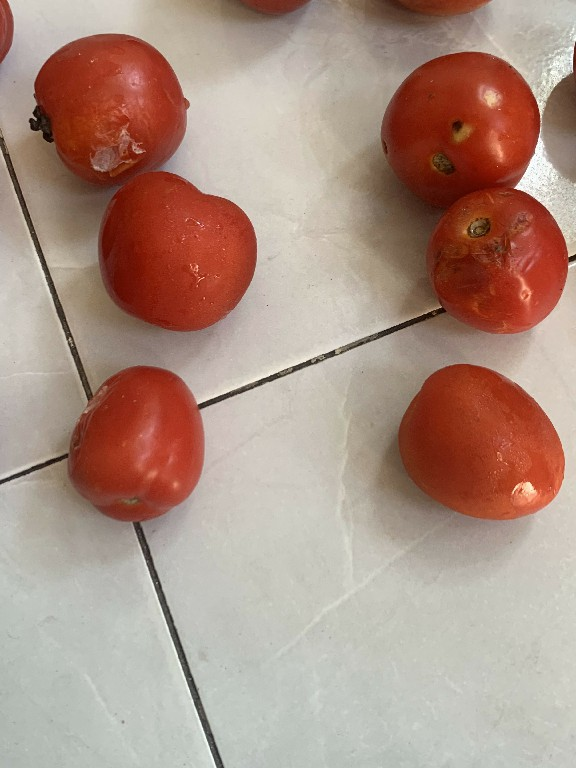NG: (365, 36, 548, 214), (53, 350, 218, 536), (20, 25, 193, 193), (410, 177, 575, 343)
OK: (387, 354, 575, 537), (86, 157, 267, 342)
